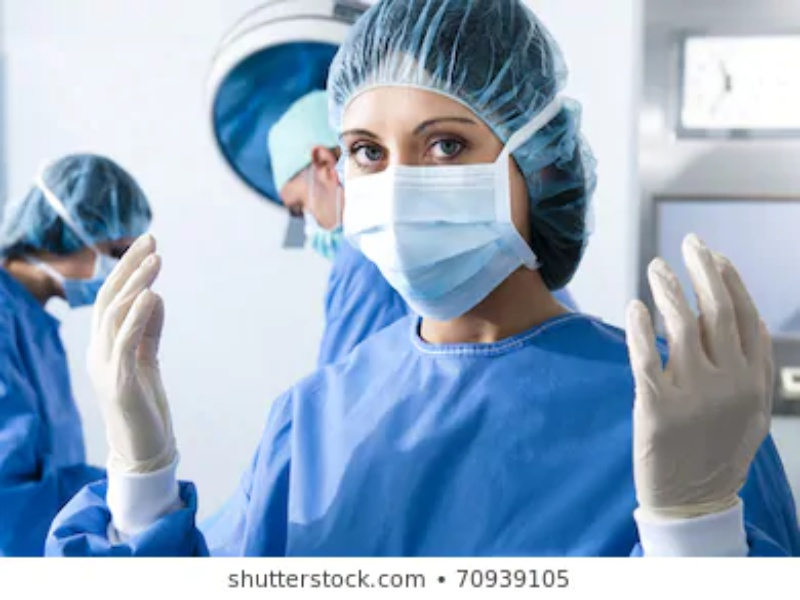ManaoArotava: (327, 27, 556, 355)
